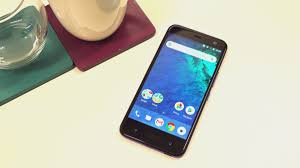htc: (116, 22, 229, 161)
